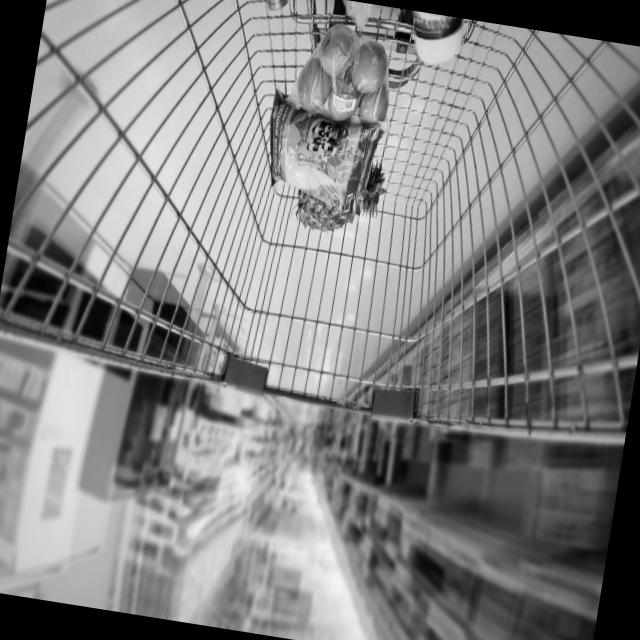apple: (293, 26, 402, 128)
milk: (400, 10, 468, 76)
pineapple: (290, 158, 388, 238)
